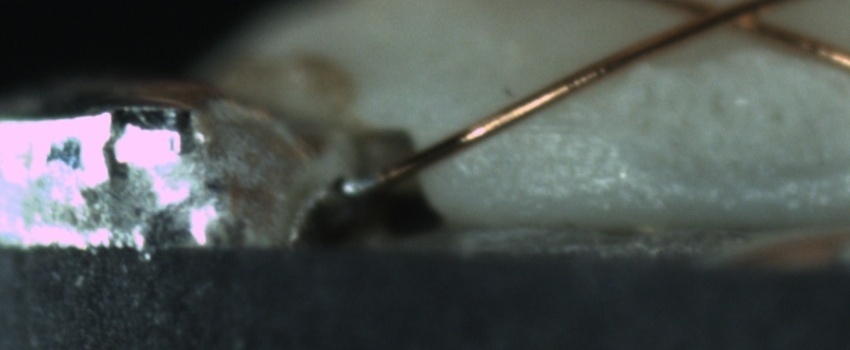CL: (672, 0, 789, 38)
DL: (496, 97, 594, 156)
TS: (341, 172, 383, 203)
